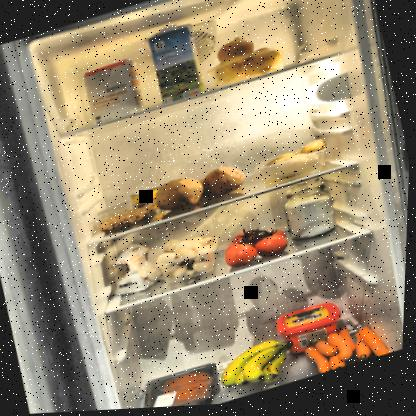banana: (213, 334, 306, 401)
beef: (138, 362, 230, 409)
butter: (274, 299, 352, 363)
carrot: (303, 319, 399, 380)
corn: (131, 187, 169, 222)
milk: (143, 19, 210, 111)
mushrooms: (158, 229, 224, 282)
onion: (201, 25, 294, 94)
potato: (254, 139, 337, 192)
shrimp: (95, 204, 154, 237)
sweet_potato: (151, 163, 251, 221)
tomato: (220, 219, 299, 276)
